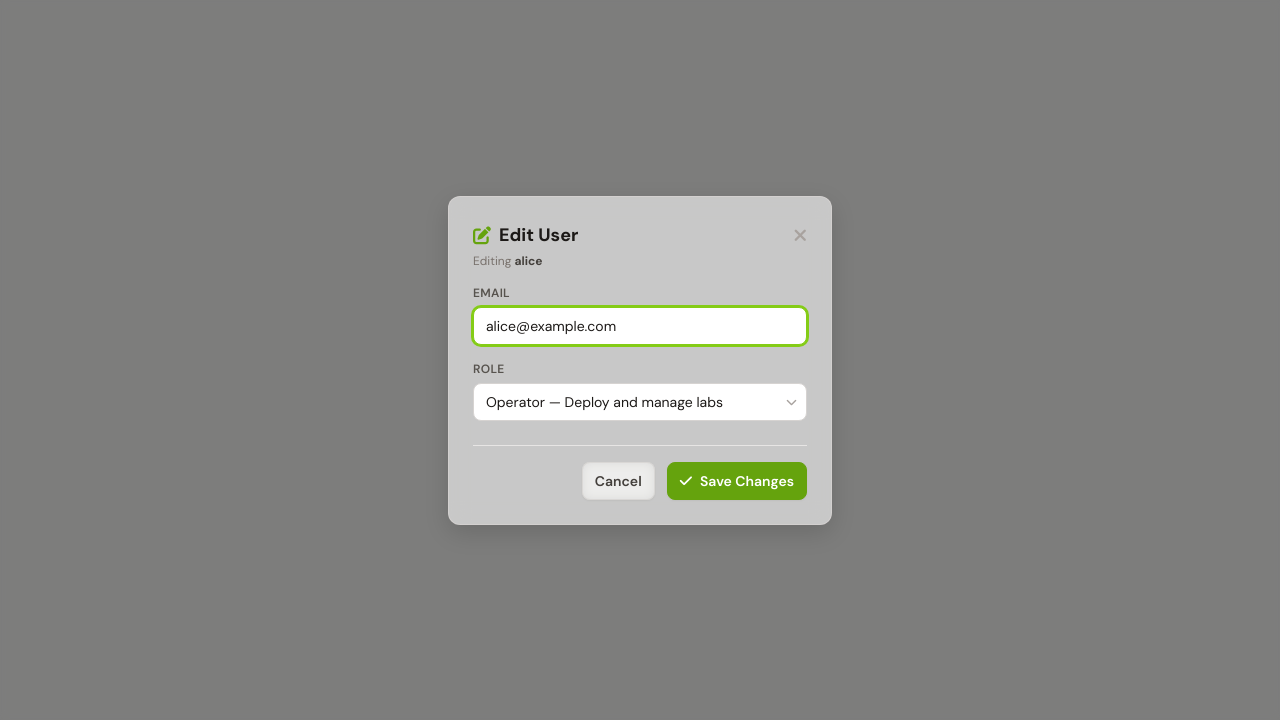
Test: UserEditModal › falls back to "Failed to update user" when the rejection is not an Error
Step 1. Click the button "Save Changes" → (737, 480), box [667,462,807,500]
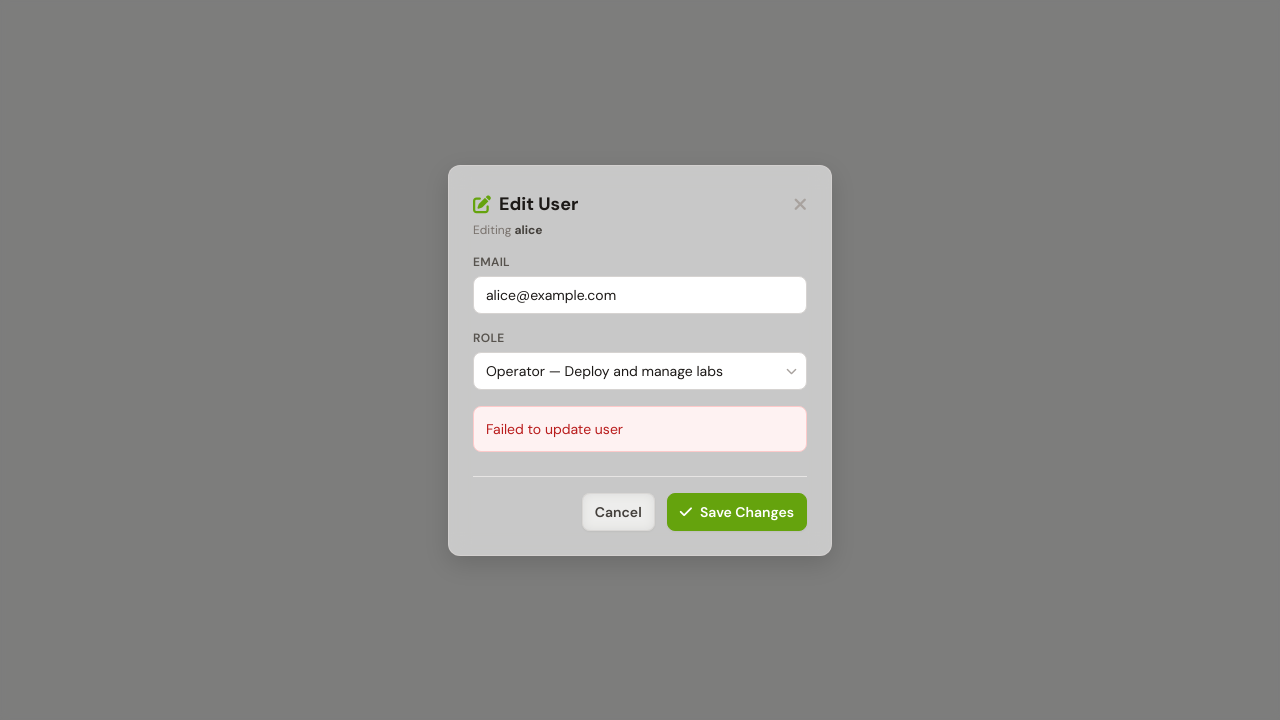
Check: the text "Failed to update user" is shown, box [473,406,807,452]
